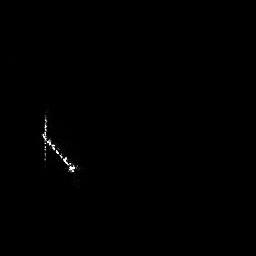ship: (40, 113, 80, 175)
